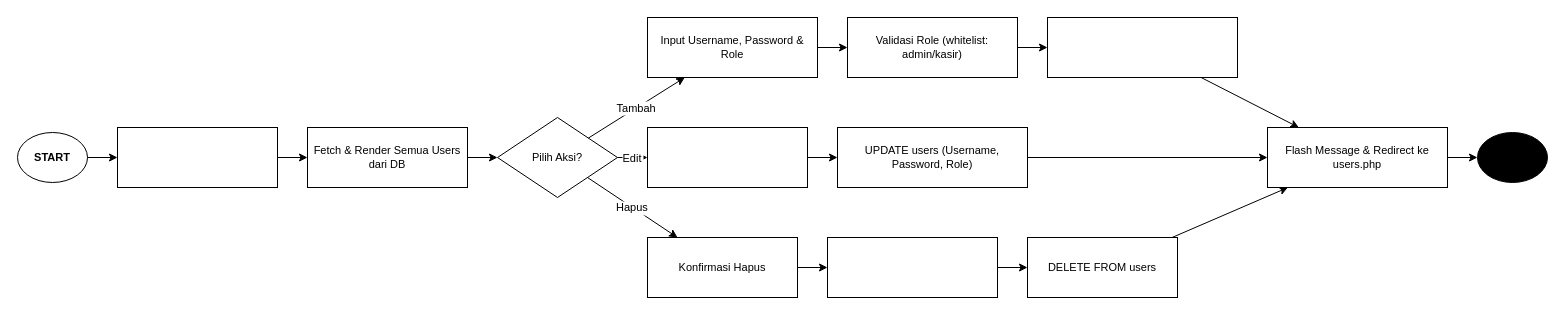
The diagram is 1565 pixels wide and 315 high, and some of its shapes have lost their labels. Here are the shapes that lost their labels. From the top down, the box of each, then its label:
(1046, 16, 1238, 78): password_hash() & INSERT INTO users
(116, 126, 278, 188): Buka Halaman Manajemen Pengguna
(646, 126, 808, 188): Load Data & Edit Form User
(1476, 132, 1548, 182): END
(826, 236, 998, 298): Cek Bukan Self-Delete (Guard)
